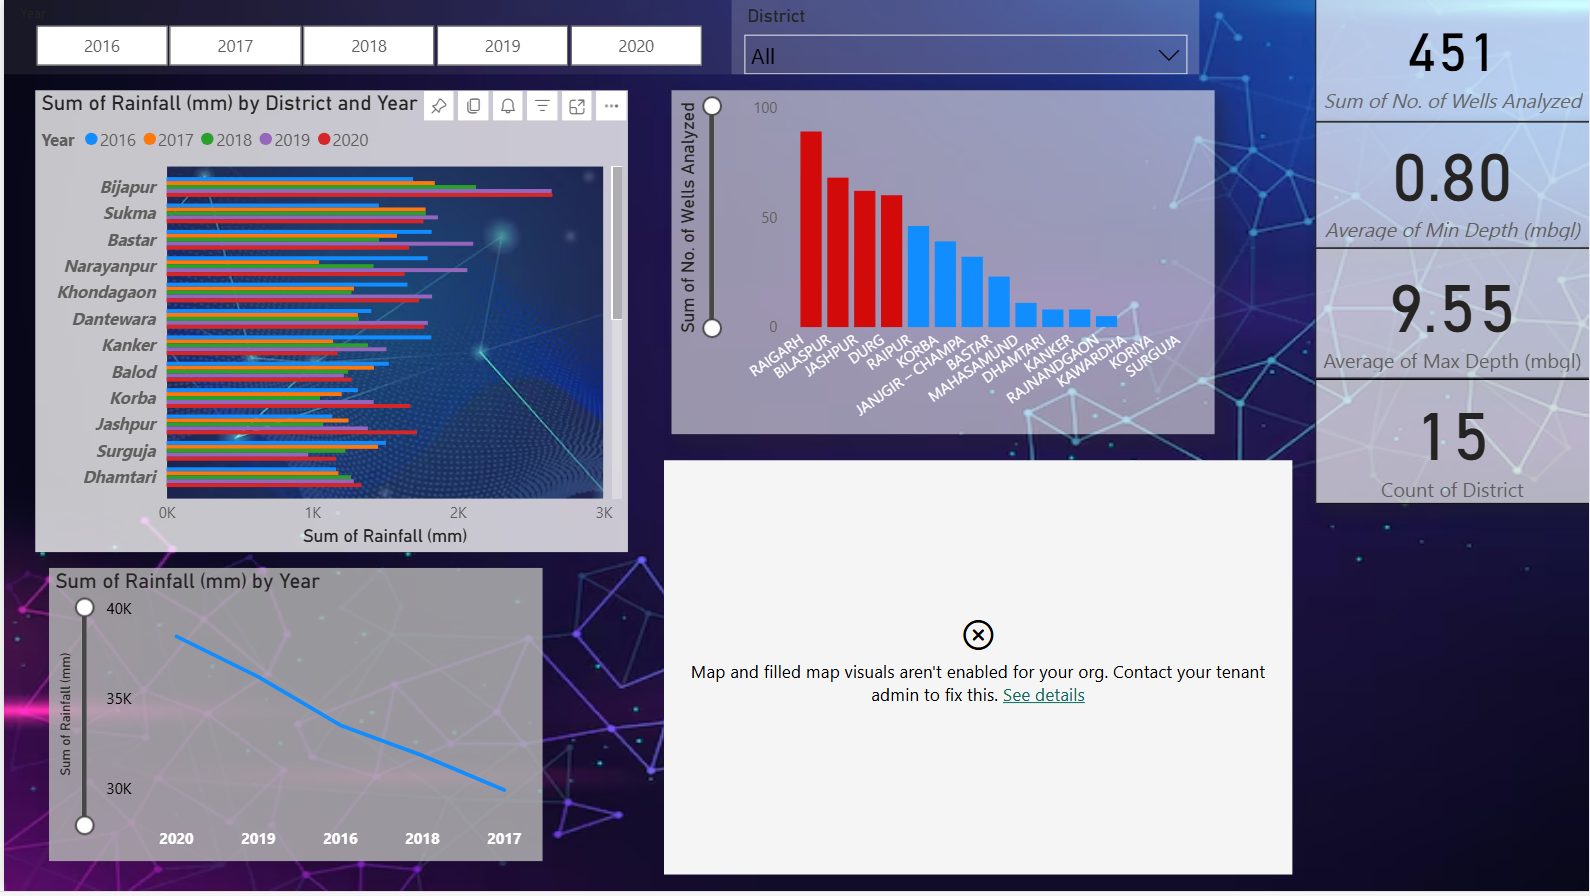

What the dashboard file says about the page in this screenshot:
{"tool":"powerbi","page":{"name":"Page 1","canvas":[1280,720],"ordinal":0},"visuals":[{"type":"clusteredBarChart","fields":{"Series":["Sheet1.Year"],"Category":["Sheet1.District"],"Y":["Sum(Sheet1.Rainfall (mm))"]},"box":[24.8,73.4,478.8,372.6],"z":0},{"type":"slicer","fields":{"Values":["Sheet1.Year"]},"box":[0,0,587.2,60.5],"z":1000},{"type":"lineChart","fields":{"Y":["Sum(Sheet1.Rainfall (mm))"],"Category":["Sheet1.Year"]},"box":[36.1,459.6,398.6,237.1],"z":2000},{"type":"slicer","fields":{"Values":["District_Lookup.District"]},"box":[587.2,0,377.9,60.5],"z":3000},{"type":"card","fields":{"Values":["Sum(Sheet2.No. of Wells Analyzed)"]},"box":[1058.1,0,222.1,98.8],"z":4000},{"type":"card","fields":{"Values":["Avg(Sheet2.Min Depth (mbgl))"]},"box":[1058.1,98.8,222.1,102.3],"z":5000},{"type":"card","fields":{"Values":["Avg(Sheet2.Max Depth (mbgl))"]},"box":[1058.1,201.2,222.1,105.8],"z":6000},{"type":"card","fields":{"Values":["Count(Sheet2.District)"]},"box":[1058.1,307,222.1,101.2],"z":7000},{"type":"clusteredColumnChart","fields":{"Category":["Sheet2.District"],"Y":["Sum(Sheet2.No. of Wells Analyzed)"]},"box":[539.1,73.2,438.3,277.4],"z":8000},{"type":"filledMap","fields":{"Category":["District_Lookup.District"]},"box":[533,372.6,507,334.2],"z":9000}]}

Visuals, with their boxes in screenshot pixels (x1, y1, x2, y2), scaled from the page's 1280x720 canvas onto the 1590x896 screenshot:
clusteredBarChart - Sheet1.Year x Sheet1.District: {"left": 31, "top": 91, "right": 626, "bottom": 555}
slicer - Sheet1.Year: {"left": 0, "top": 0, "right": 729, "bottom": 75}
lineChart - Sum(Sheet1.Rainfall (mm)) x Sheet1.Year: {"left": 45, "top": 572, "right": 540, "bottom": 867}
slicer - District_Lookup.District: {"left": 729, "top": 0, "right": 1199, "bottom": 75}
card - Sum(Sheet2.No. of Wells Analyzed): {"left": 1314, "top": 0, "right": 1589, "bottom": 123}
card - Avg(Sheet2.Min Depth (mbgl)): {"left": 1314, "top": 123, "right": 1589, "bottom": 250}
card - Avg(Sheet2.Max Depth (mbgl)): {"left": 1314, "top": 250, "right": 1589, "bottom": 382}
card - Count(Sheet2.District): {"left": 1314, "top": 382, "right": 1589, "bottom": 508}
clusteredColumnChart - Sheet2.District x Sum(Sheet2.No. of Wells Analyzed): {"left": 670, "top": 91, "right": 1214, "bottom": 436}
filledMap - District_Lookup.District: {"left": 662, "top": 464, "right": 1292, "bottom": 880}
